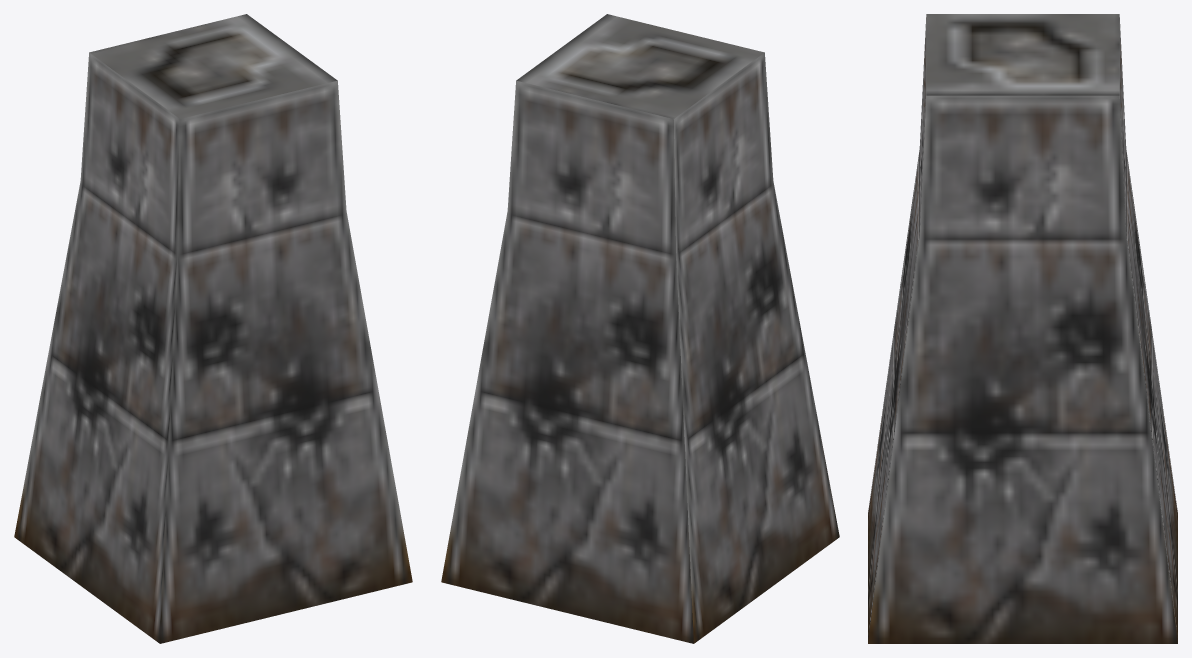
File: s_mediumpost_dam.glb
The picture shows the model from 3 angles, left to right: view 1: azimuth 30°, elevation 25°; view 2: azimuth 150°, elevation 25°; view 3: azimuth 270°, elevation 25°; orthographic projection. The views are drawn at different scales.
Parts seen in each view (by area): view 1: S_MediumWallDAM; view 2: S_MediumWallDAM; view 3: S_MediumWallDAM.
Part boxes in pixels (bbox=[...]): S_MediumWallDAM: bbox=[14, 14, 412, 643]; S_MediumWallDAM: bbox=[441, 14, 839, 643]; S_MediumWallDAM: bbox=[868, 14, 1177, 643].
Bounding box in the file's own units: 6 × 11.19 × 6.
Materials: 1 (1 with a texture image).
